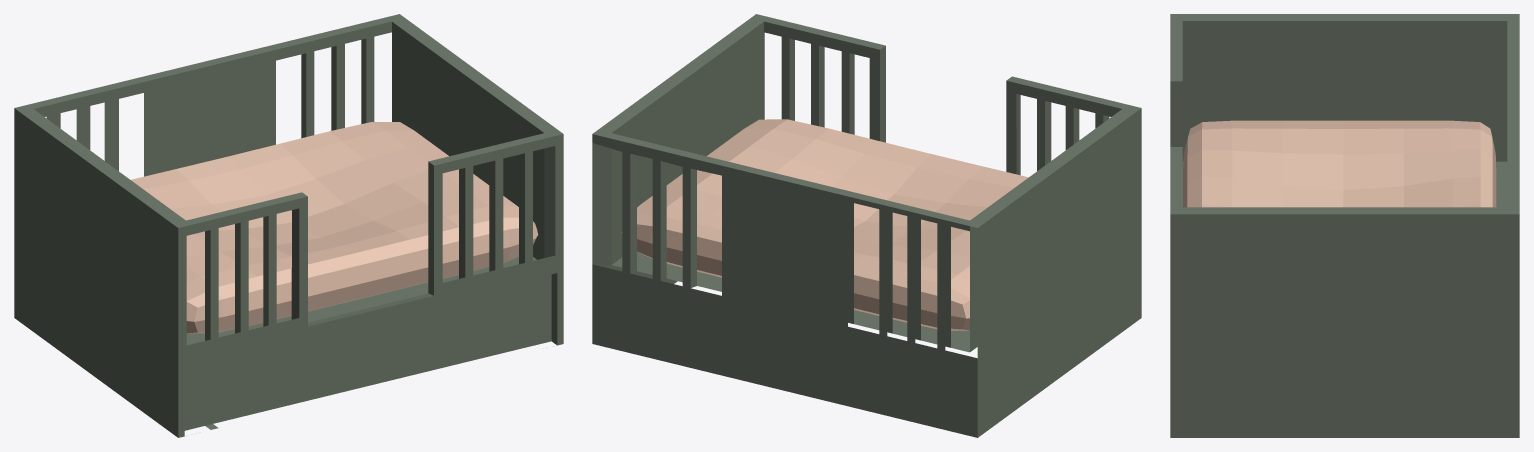
Rendered from BabyCrypt.fbx.
The picture shows the model from 3 angles, left to right: view 1: azimuth 30°, elevation 25°; view 2: azimuth 150°, elevation 25°; view 3: azimuth 270°, elevation 25°; orthographic projection. The views are drawn at different scales.
Parts seen in each view (by area): view 1: BabyCrypt; view 2: BabyCrypt; view 3: BabyCrypt.
Part boxes in pixels (x1,y1,x2,y2): BabyCrypt: [14, 14, 563, 437]; BabyCrypt: [592, 14, 1141, 437]; BabyCrypt: [1170, 14, 1519, 437].
Bounding box in the file's own units: 298 × 220 × 155.
